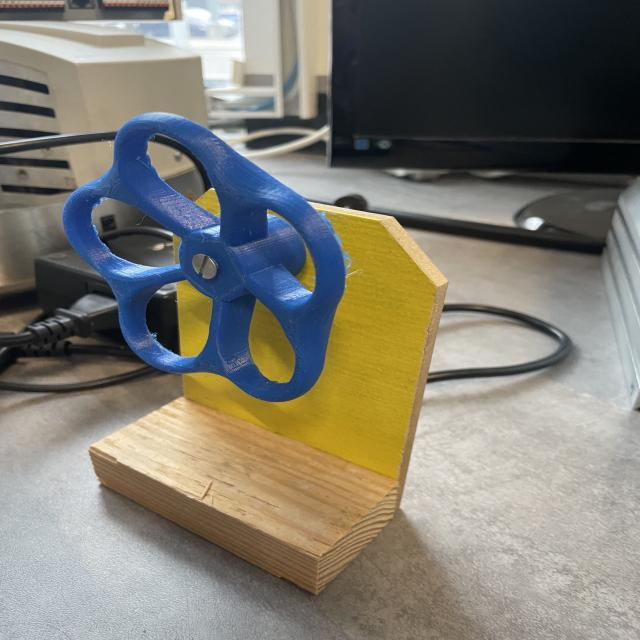Wheel Handle Valve Threaded: (59, 110, 348, 403)
